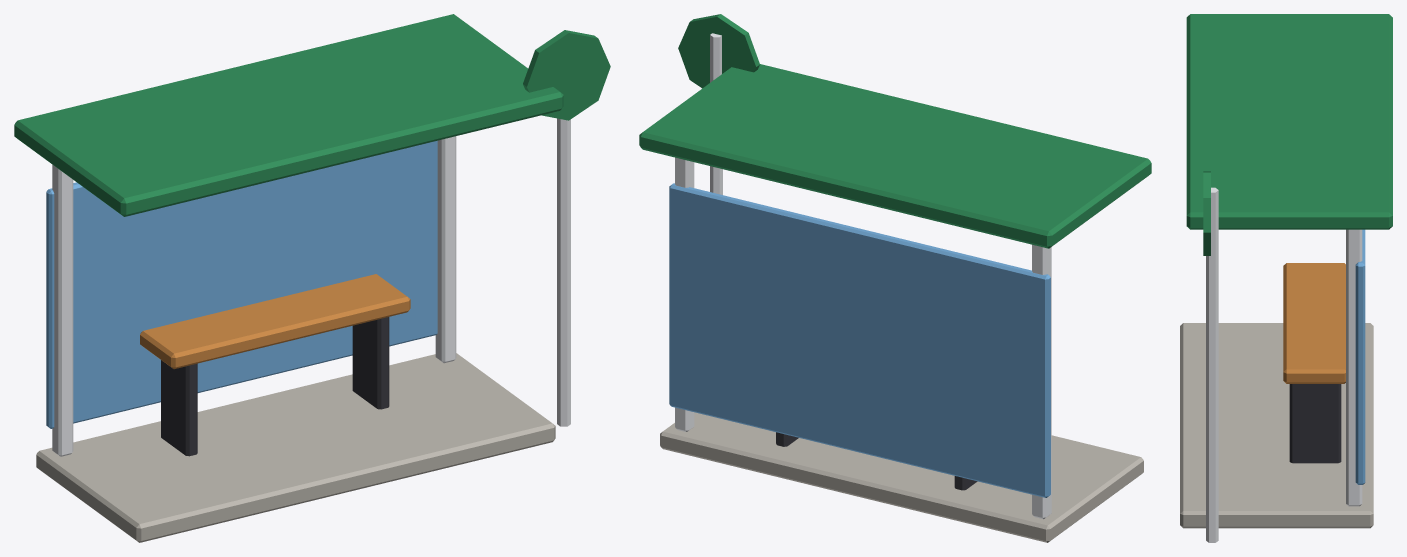
File: BusStop.fbx
3 renders of one model, left to right at view 1: azimuth 30°, elevation 25°; view 2: azimuth 150°, elevation 25°; view 3: azimuth 270°, elevation 25°, orthographic. The views are drawn at different scales.
Visible parts, largest first — view 1: BusStop; view 2: BusStop; view 3: BusStop.
Boxes of the visible parts, x1,y1,x2,y2 form: BusStop: [14, 14, 610, 542]; BusStop: [639, 14, 1151, 542]; BusStop: [1180, 14, 1392, 542].
Bounding box in the file's own units: 8.3 × 6.3 × 3.3.
1 material, 1 textured.
